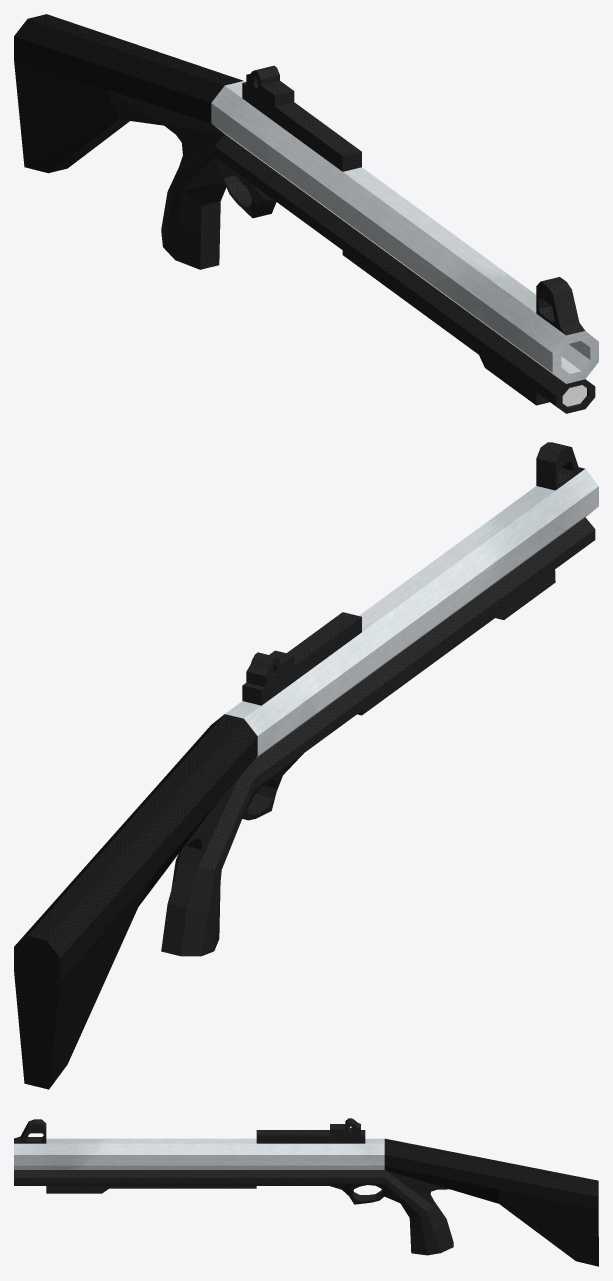
The model's file is Shotgun.fbx.
3 renders of one model, top to bottom at view 1: azimuth 30°, elevation 25°; view 2: azimuth 150°, elevation 25°; view 3: azimuth 270°, elevation 25°, orthographic. The views are drawn at different scales.
Parts seen in each view (by area): view 1: Fucile_a_pompa_mesh; view 2: Fucile_a_pompa_mesh; view 3: Fucile_a_pompa_mesh.
Boxes of the visible parts, box(x1,y1,x2,y2) form: Fucile_a_pompa_mesh: box(14, 14, 598, 413); Fucile_a_pompa_mesh: box(14, 442, 598, 1089); Fucile_a_pompa_mesh: box(14, 1118, 598, 1266).
Size of the model in its own units: 0.0989 by 0.5365 by 1.99.
Materials: 1 (1 with a texture image).
